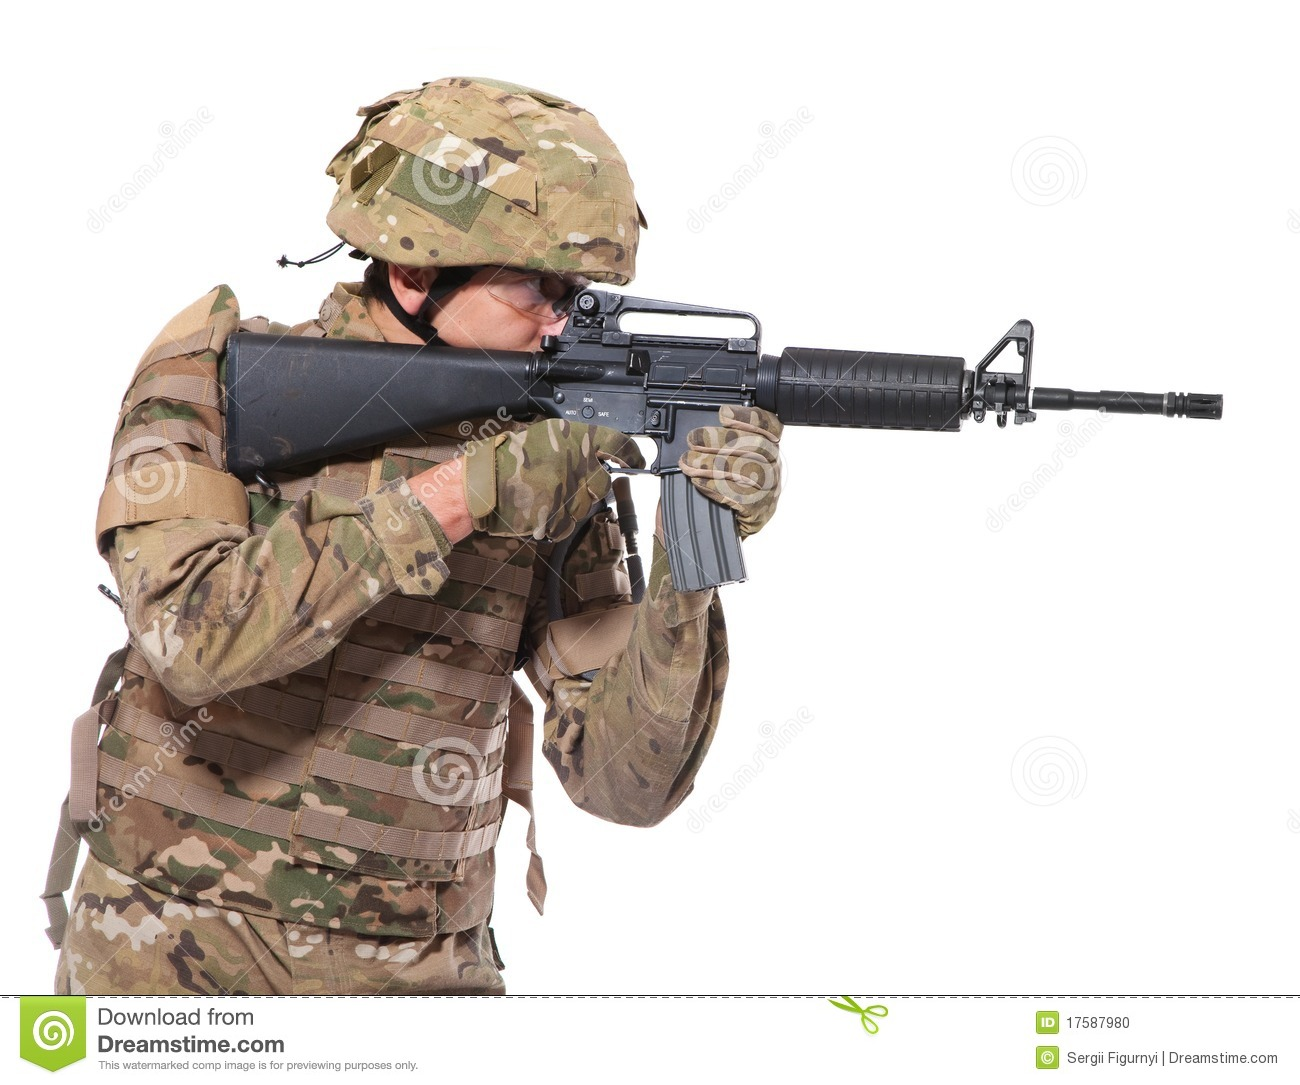Arma Real: (211, 274, 1227, 580)
